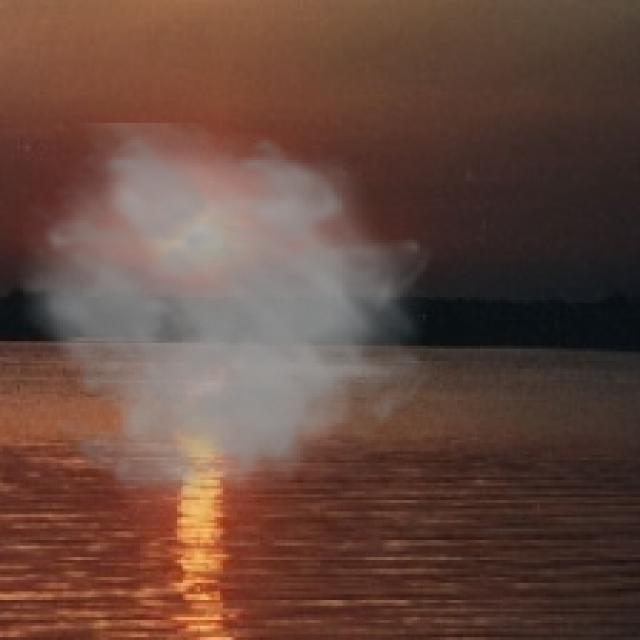Smoke: (12, 123, 437, 532)
